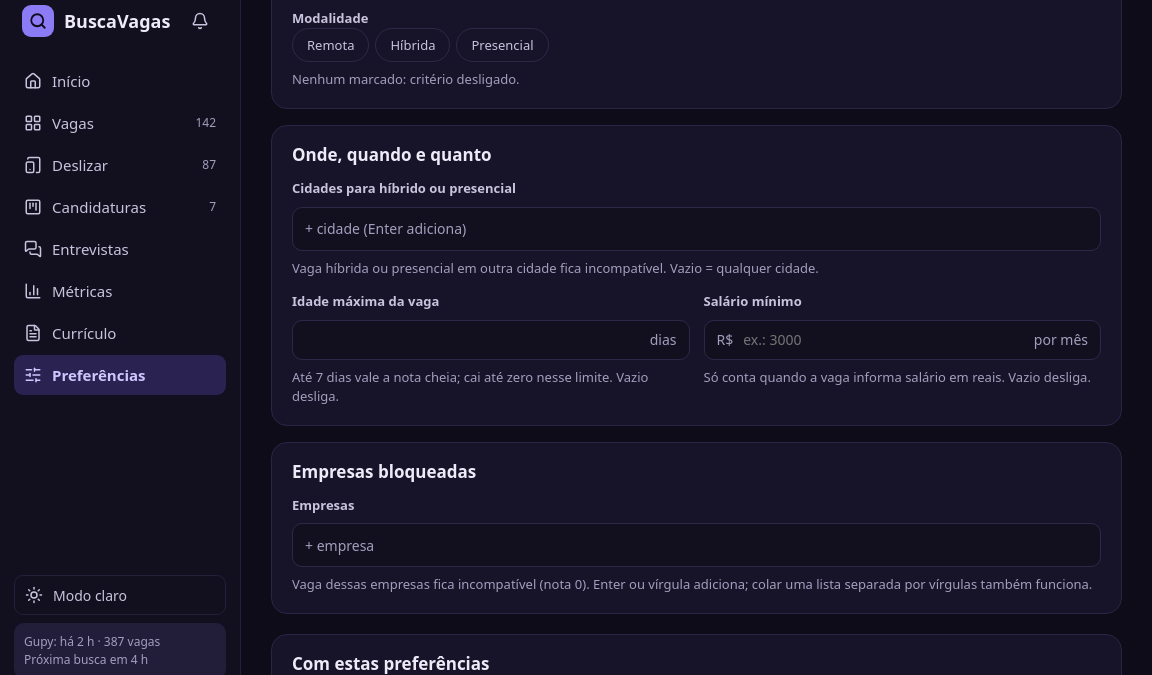
Preferências › número fora da faixa não salva e o erro aparece no campo
(page scrolled)
Type "400" into the number field labelled "Idade máxima da vaga".
click(473, 340); type("400")  # box x1=305 y1=320 x2=642 y2=358
(page scrolled)
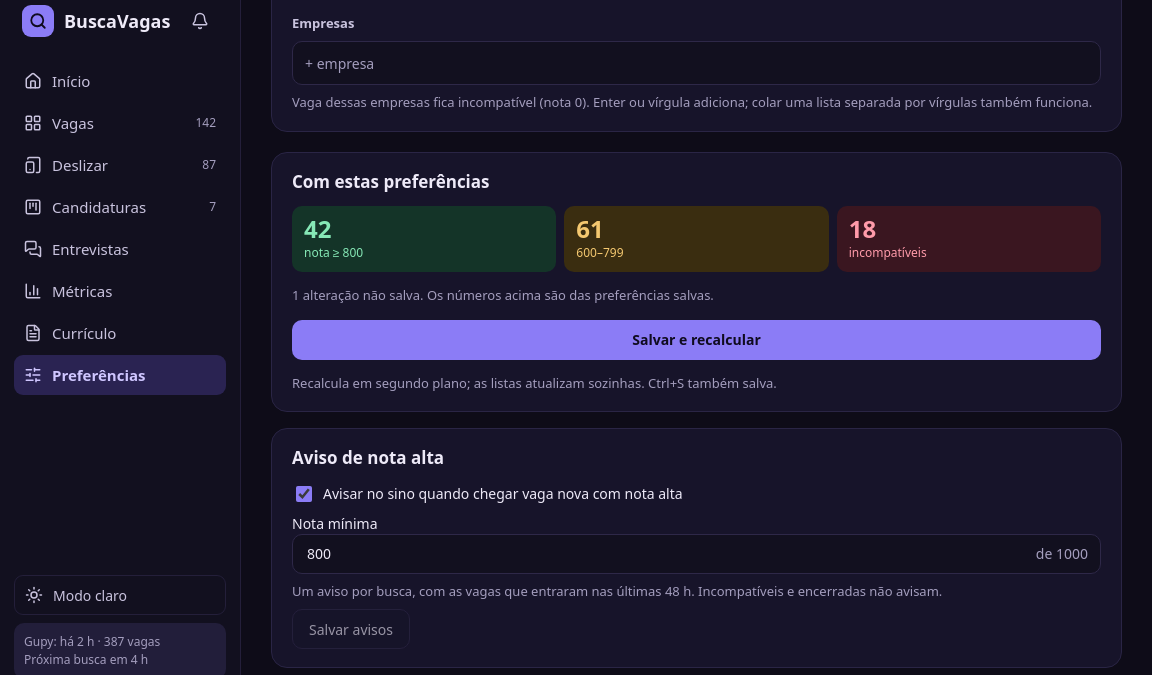
Click the button "Salvar e recalcular".
click(696, 340)  # box x1=292 y1=320 x2=1101 y2=360
(page scrolled)
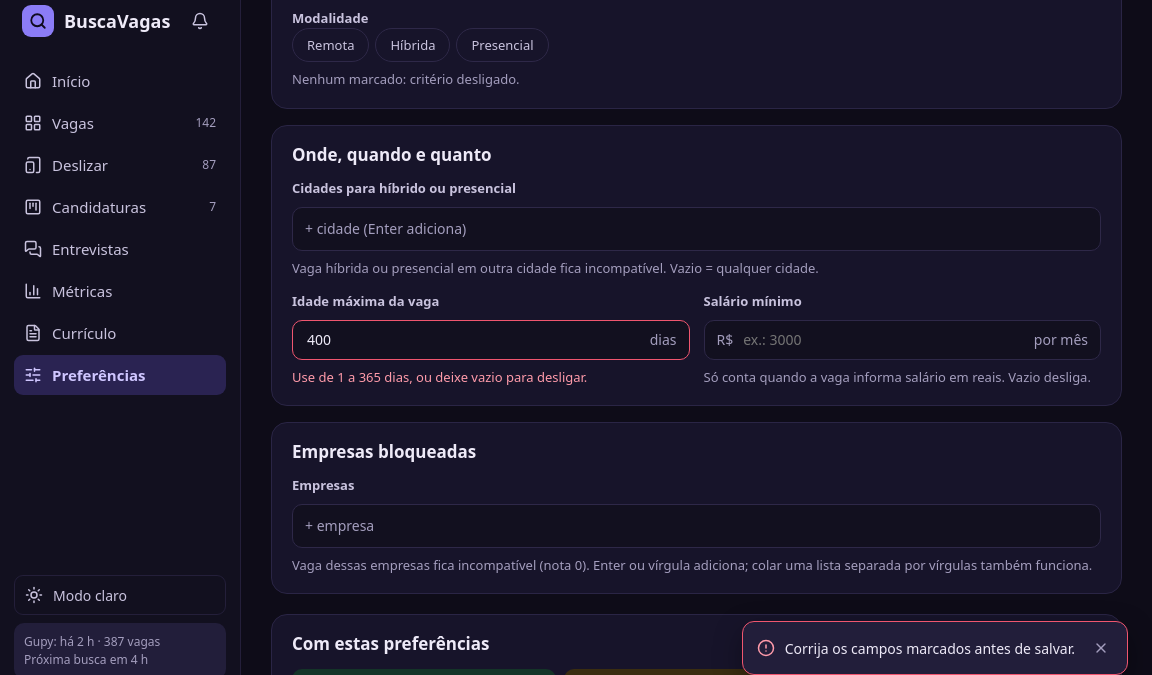
Expected: the text "Use de 1 a 365 dias, ou deixe vazio para desligar." is shown, x1=292 y1=368 x2=587 y2=386
Replace the text in the number field labelled "Idade máxima da vaga" with "45" at [473, 340], box x1=305 y1=320 x2=642 y2=358
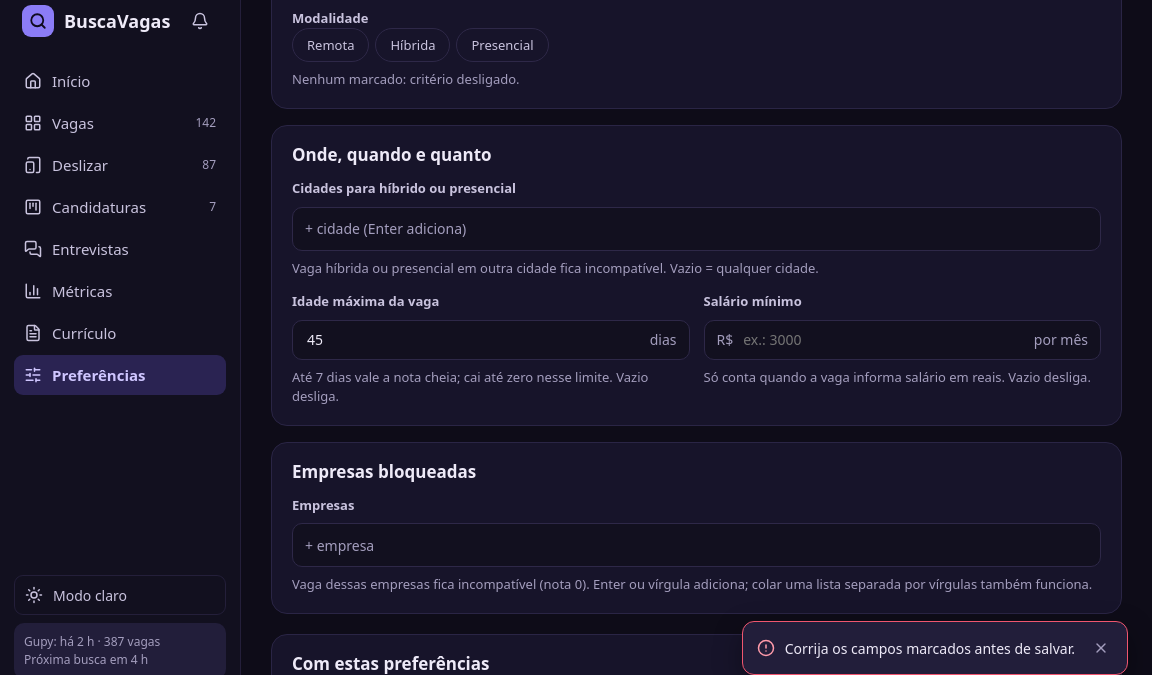
Expected: the text "Use de 1 a 365 dias" is gone
